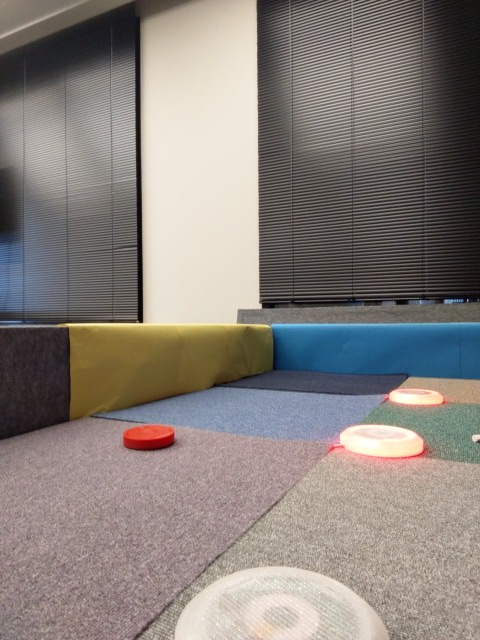o: (173, 561, 392, 640)
r: (339, 425, 423, 457), (387, 387, 445, 407)
